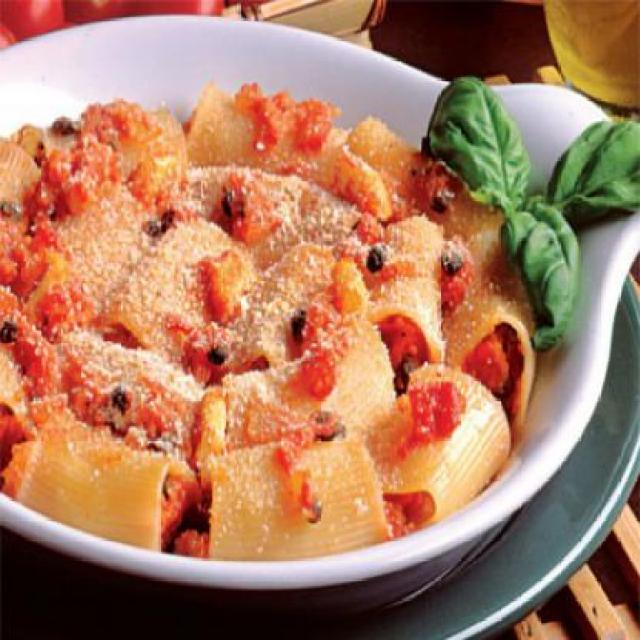Pasta al ragu: (6, 69, 586, 569)
